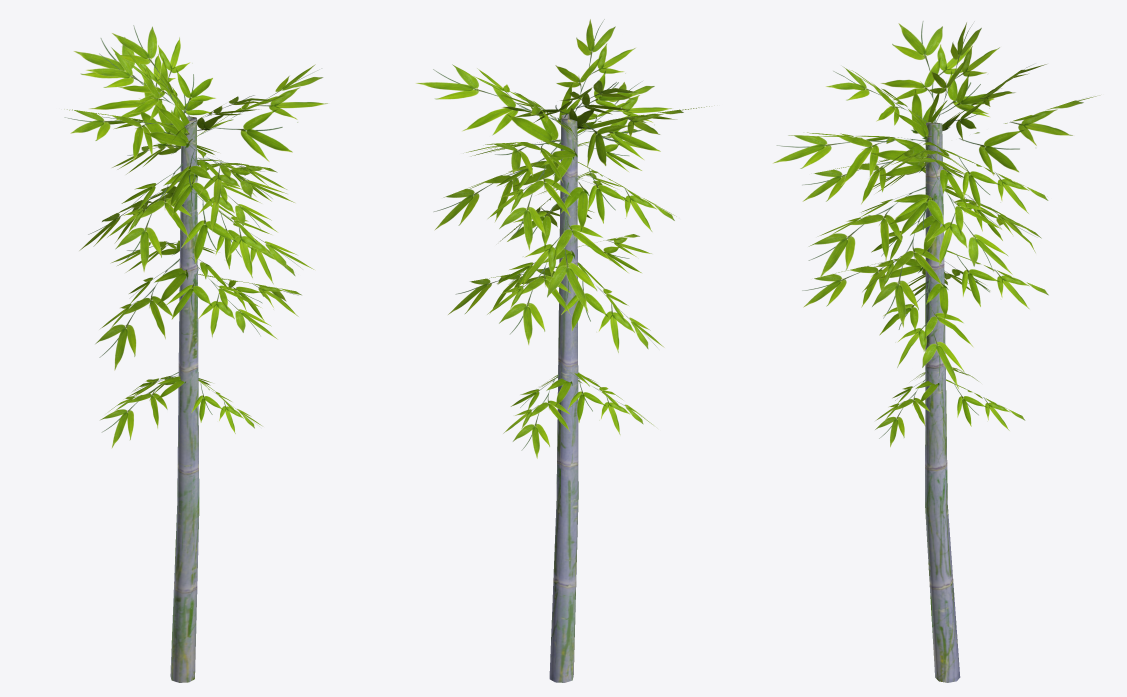
The model's file is bamboo.glb.
The picture shows the model from 3 angles, left to right: view 1: azimuth 30°, elevation 25°; view 2: azimuth 150°, elevation 25°; view 3: azimuth 270°, elevation 25°; orthographic projection.
Visible parts, largest first — view 1: bamboo tree 3; view 2: bamboo tree 3; view 3: bamboo tree 3.
Boxes of the visible parts, x1=… form: bamboo tree 3: x1=64, y1=25, x2=328, y2=682; bamboo tree 3: x1=415, y1=19, x2=709, y2=682; bamboo tree 3: x1=772, y1=21, x2=1099, y2=682.
Bounding box in the file's own units: 3.3 × 6.92 × 3.43.
Materials: 2 (2 with a texture image).
